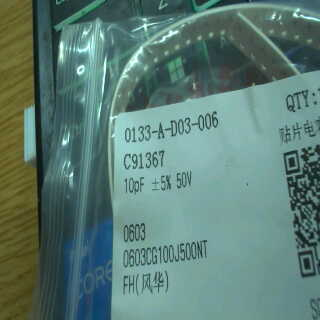10pF: (120, 173, 149, 195)
